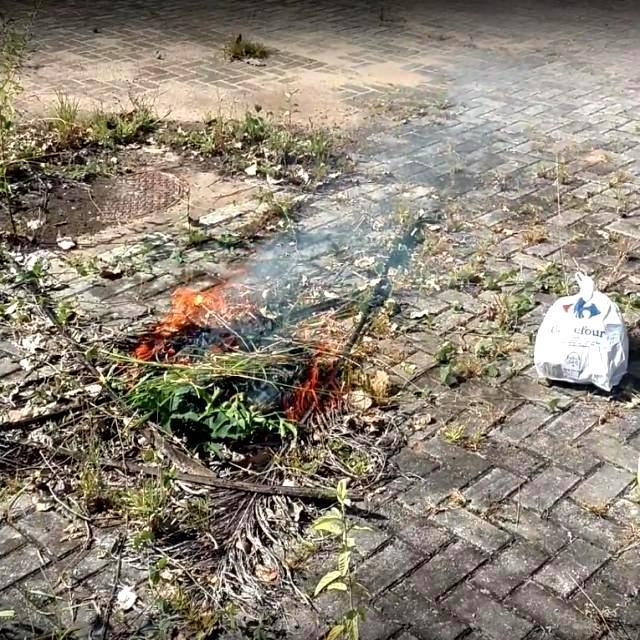Fire: (154, 279, 228, 334)
Smoke: (230, 65, 518, 308)
